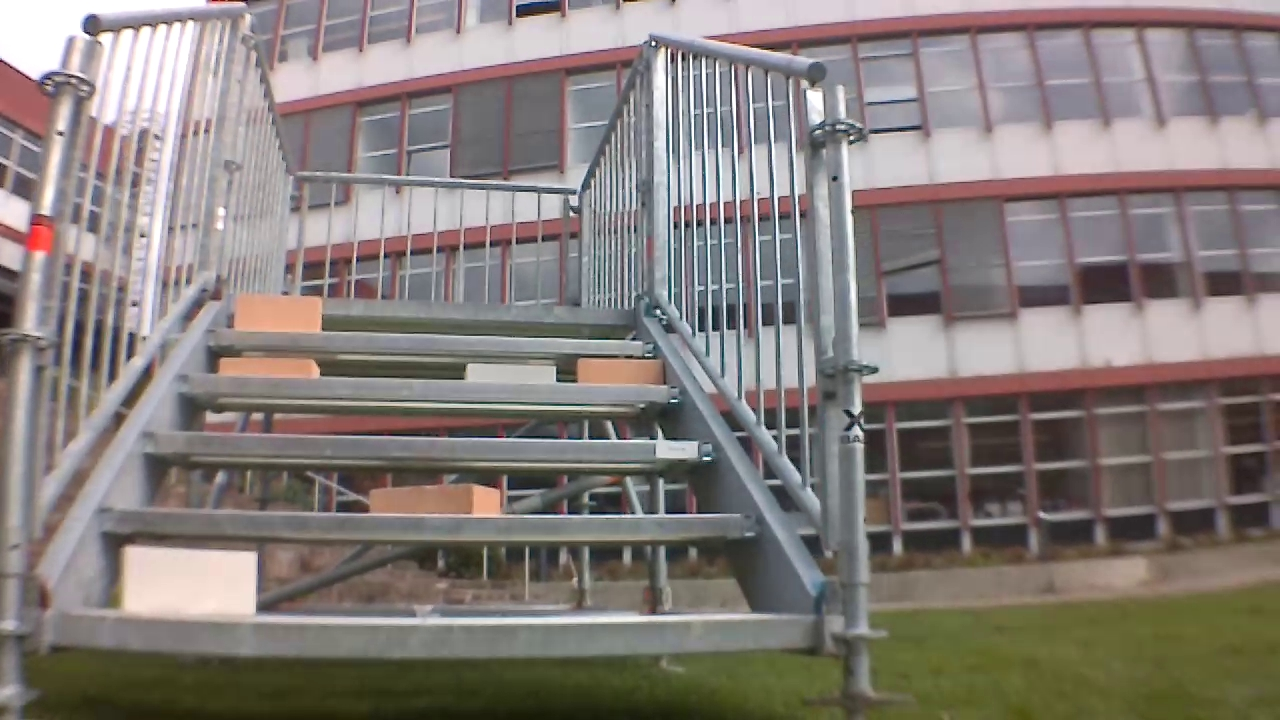brick: (122, 545, 261, 612), (362, 482, 503, 513), (230, 295, 323, 326), (215, 355, 319, 379), (578, 355, 669, 381), (465, 364, 560, 380)
edge: (47, 605, 830, 651), (134, 435, 723, 469), (93, 512, 759, 538), (204, 330, 660, 355), (167, 380, 688, 400), (224, 298, 642, 320)
stairs: (12, 0, 881, 703)
steps: (36, 294, 819, 647)
